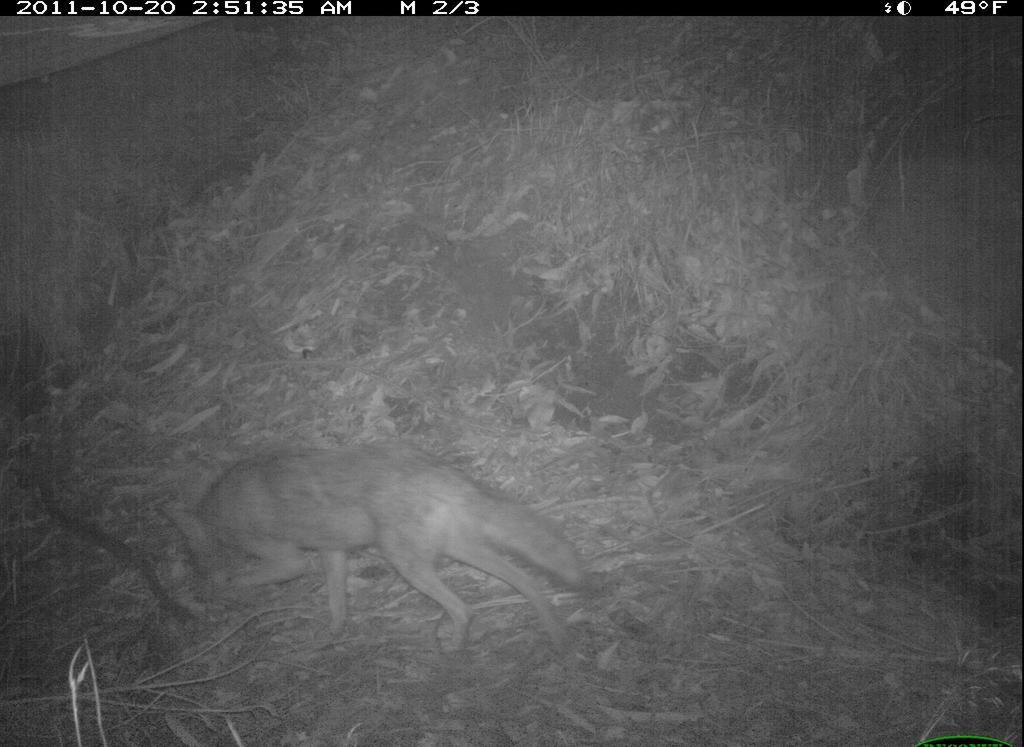coyote: (149, 440, 588, 652)
